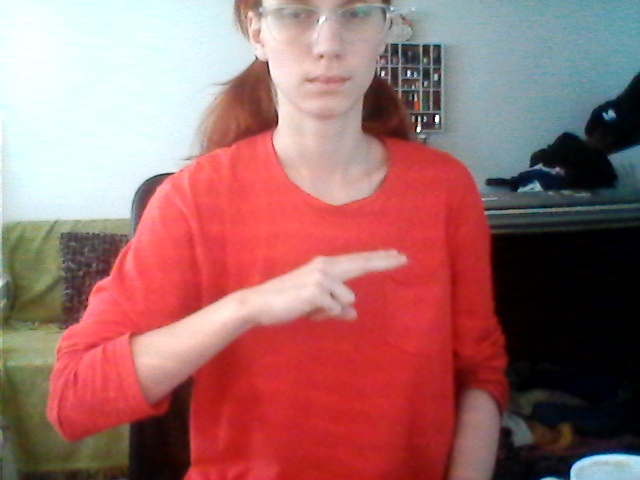frajer: (260, 235, 436, 337)
